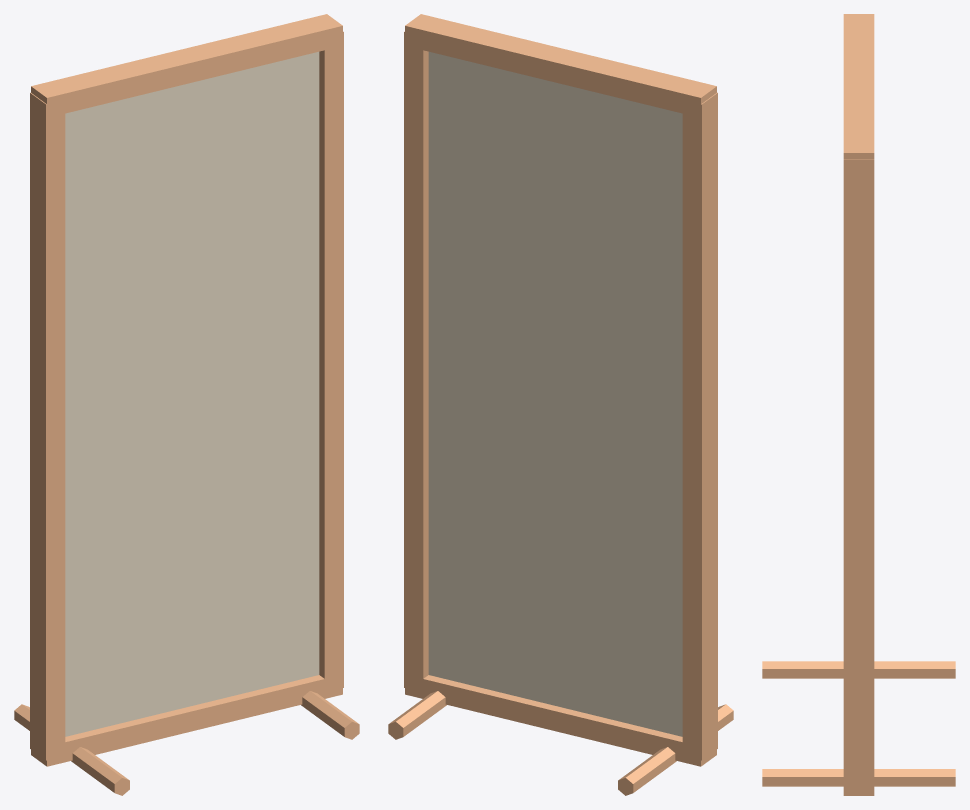
3 renders of one model, left to right at view 1: azimuth 30°, elevation 25°; view 2: azimuth 150°, elevation 25°; view 3: azimuth 270°, elevation 25°, orthographic. The views are drawn at different scales.
Parts seen in each view (by area): view 1: Mirror face, Frame, Frame.001, Frame.003, Frame.002, Foot, Foot.001; view 2: Mirror face, Frame, Frame.001, Frame.003, Frame.002, Foot, Foot.001; view 3: Frame.001, Frame.003, Foot, Foot.001.
Boxes of the visible parts, <box> form: Mirror face: <box>65,51,319,736</box>; Frame: <box>30,92,65,760</box>; Frame.001: <box>319,31,343,692</box>; Frame.003: <box>31,14,342,117</box>; Frame.002: <box>31,675,342,766</box>; Foot: <box>14,704,129,795</box>; Foot.001: <box>301,691,359,739</box>; Mirror face: <box>428,51,682,736</box>; Frame: <box>682,92,717,760</box>; Frame.001: <box>404,31,428,687</box>; Frame.003: <box>405,14,716,113</box>; Frame.002: <box>405,674,716,766</box>; Foot: <box>618,704,733,795</box>; Foot.001: <box>388,691,446,739</box>; Frame.001: <box>843,159,874,790</box>; Frame.003: <box>843,14,874,158</box>; Foot: <box>762,661,955,678</box>; Foot.001: <box>762,769,955,786</box>.
Bounding box in the file's own units: 85.5 × 185 × 50.
